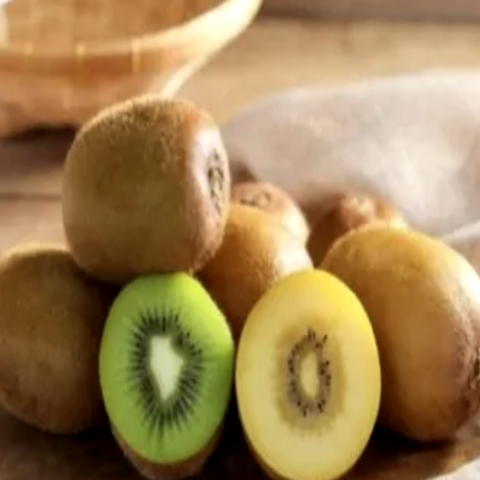kiwi: (308, 187, 480, 475), (49, 89, 244, 277)
